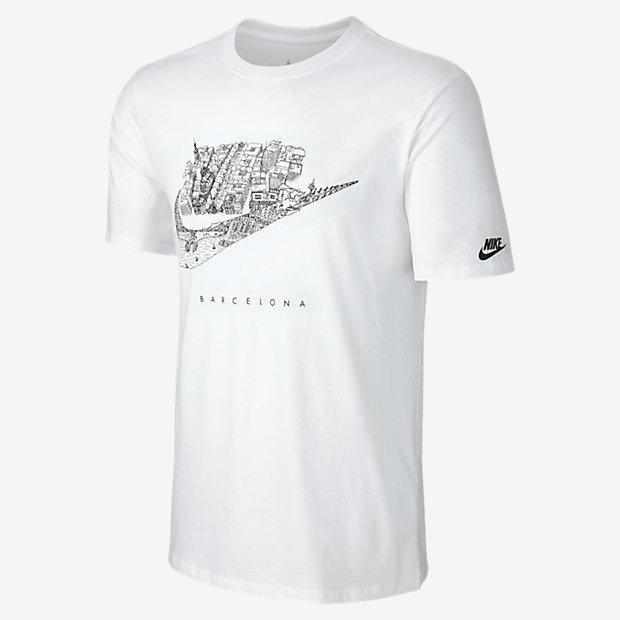teeshirt: (99, 14, 582, 612)
